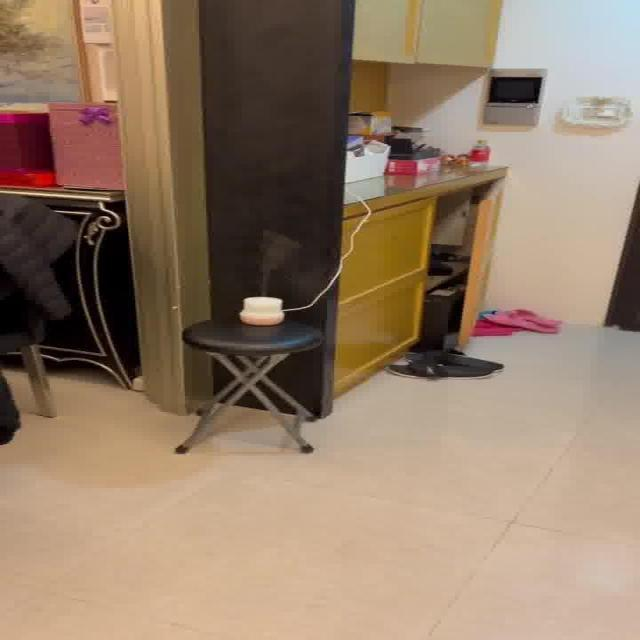fire: (247, 228, 310, 290)
